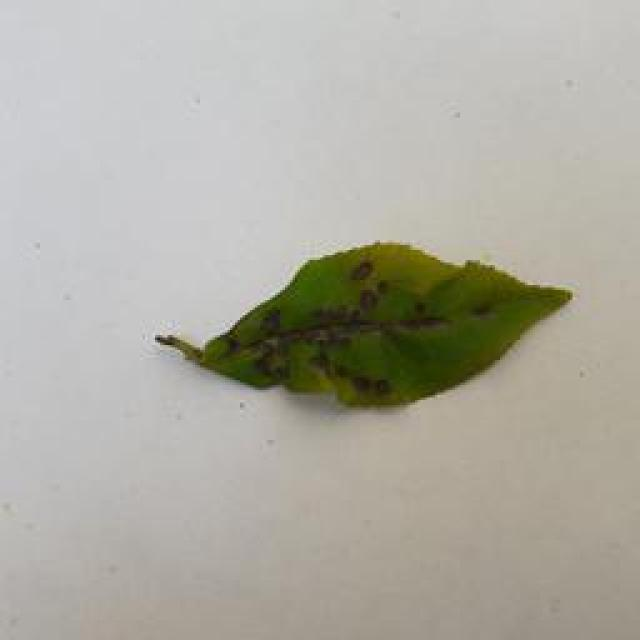Helopeltis: (156, 235, 582, 428)
